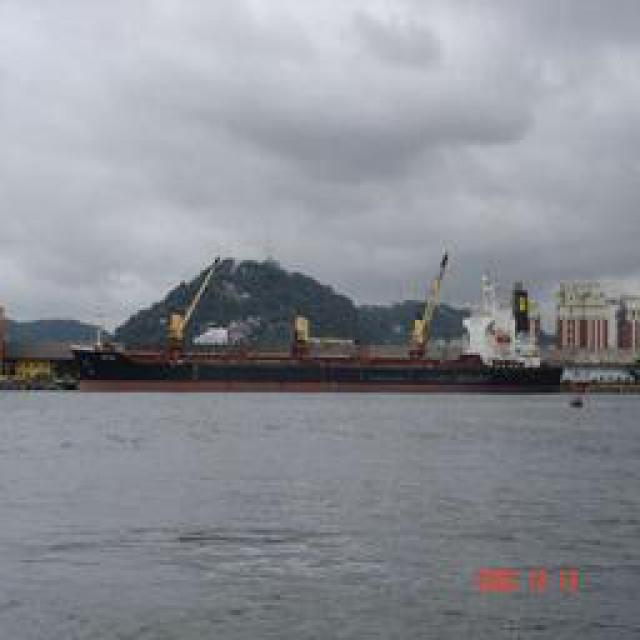Ship: (61, 282, 579, 392)
